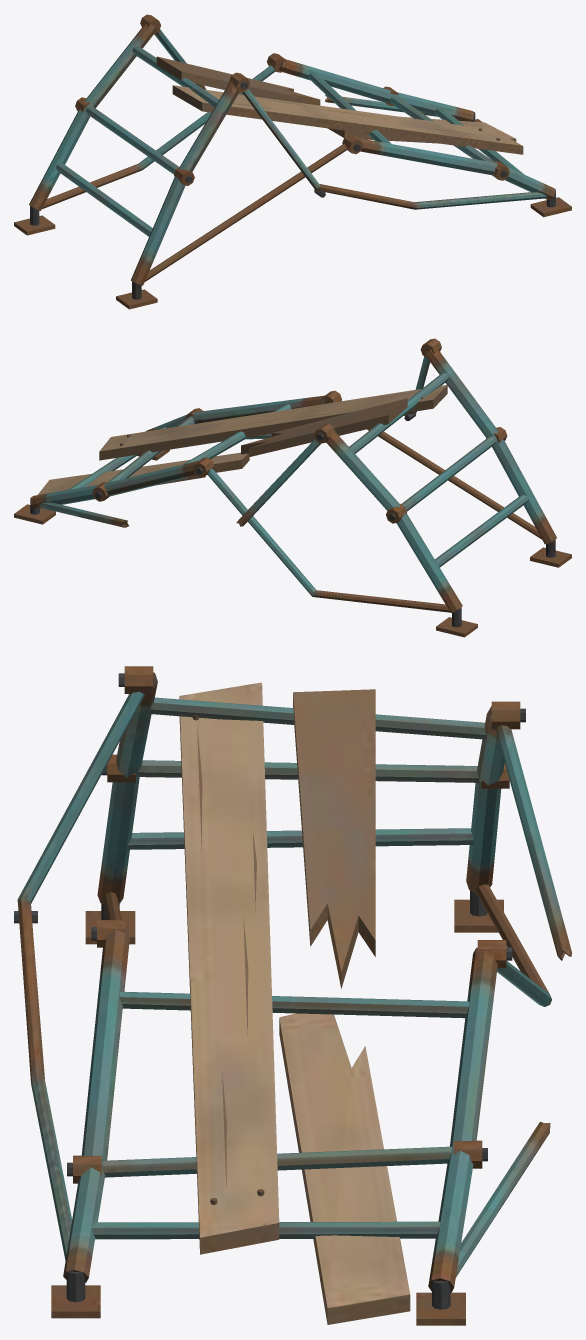
Rendered from BR35_collapsed_scaffolding.glb.
3 renders of one model, top to bottom at view 1: azimuth 30°, elevation 25°; view 2: azimuth 150°, elevation 25°; view 3: azimuth 270°, elevation 25°, orthographic. The views are drawn at different scales.
Parts seen in each view (by area): view 1: Collapsed scaffolding; view 2: Collapsed scaffolding; view 3: Collapsed scaffolding.
Boxes of the visible parts, left/top/right/bottom form: Collapsed scaffolding: left=14, top=14, right=571, bottom=309; Collapsed scaffolding: left=14, top=338, right=571, bottom=637; Collapsed scaffolding: left=14, top=666, right=571, bottom=1325.
Bounding box in the file's own units: 3 × 1.22 × 1.68.
Materials: 5 (5 with a texture image).
